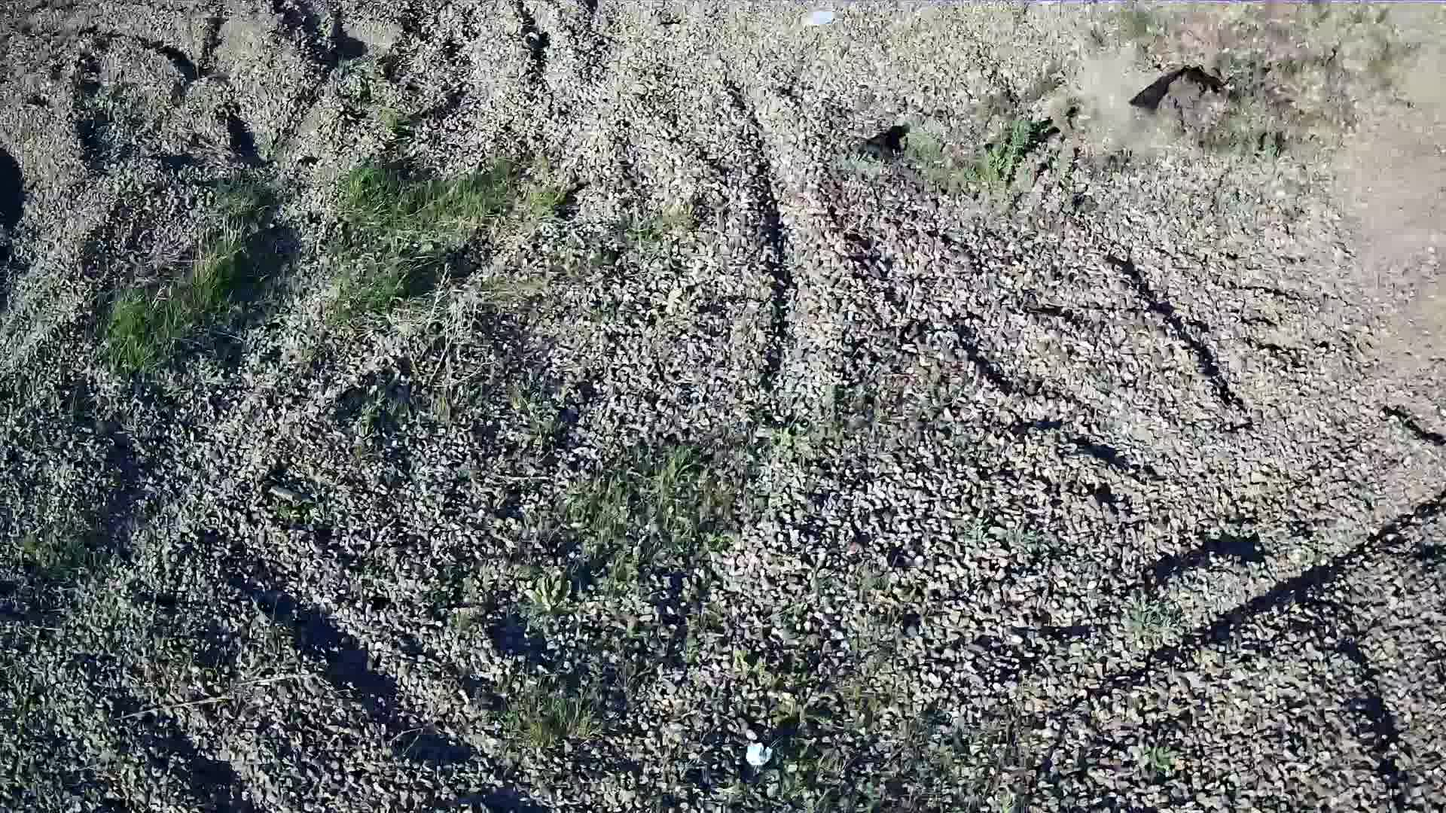Target: (744, 740, 773, 765)
